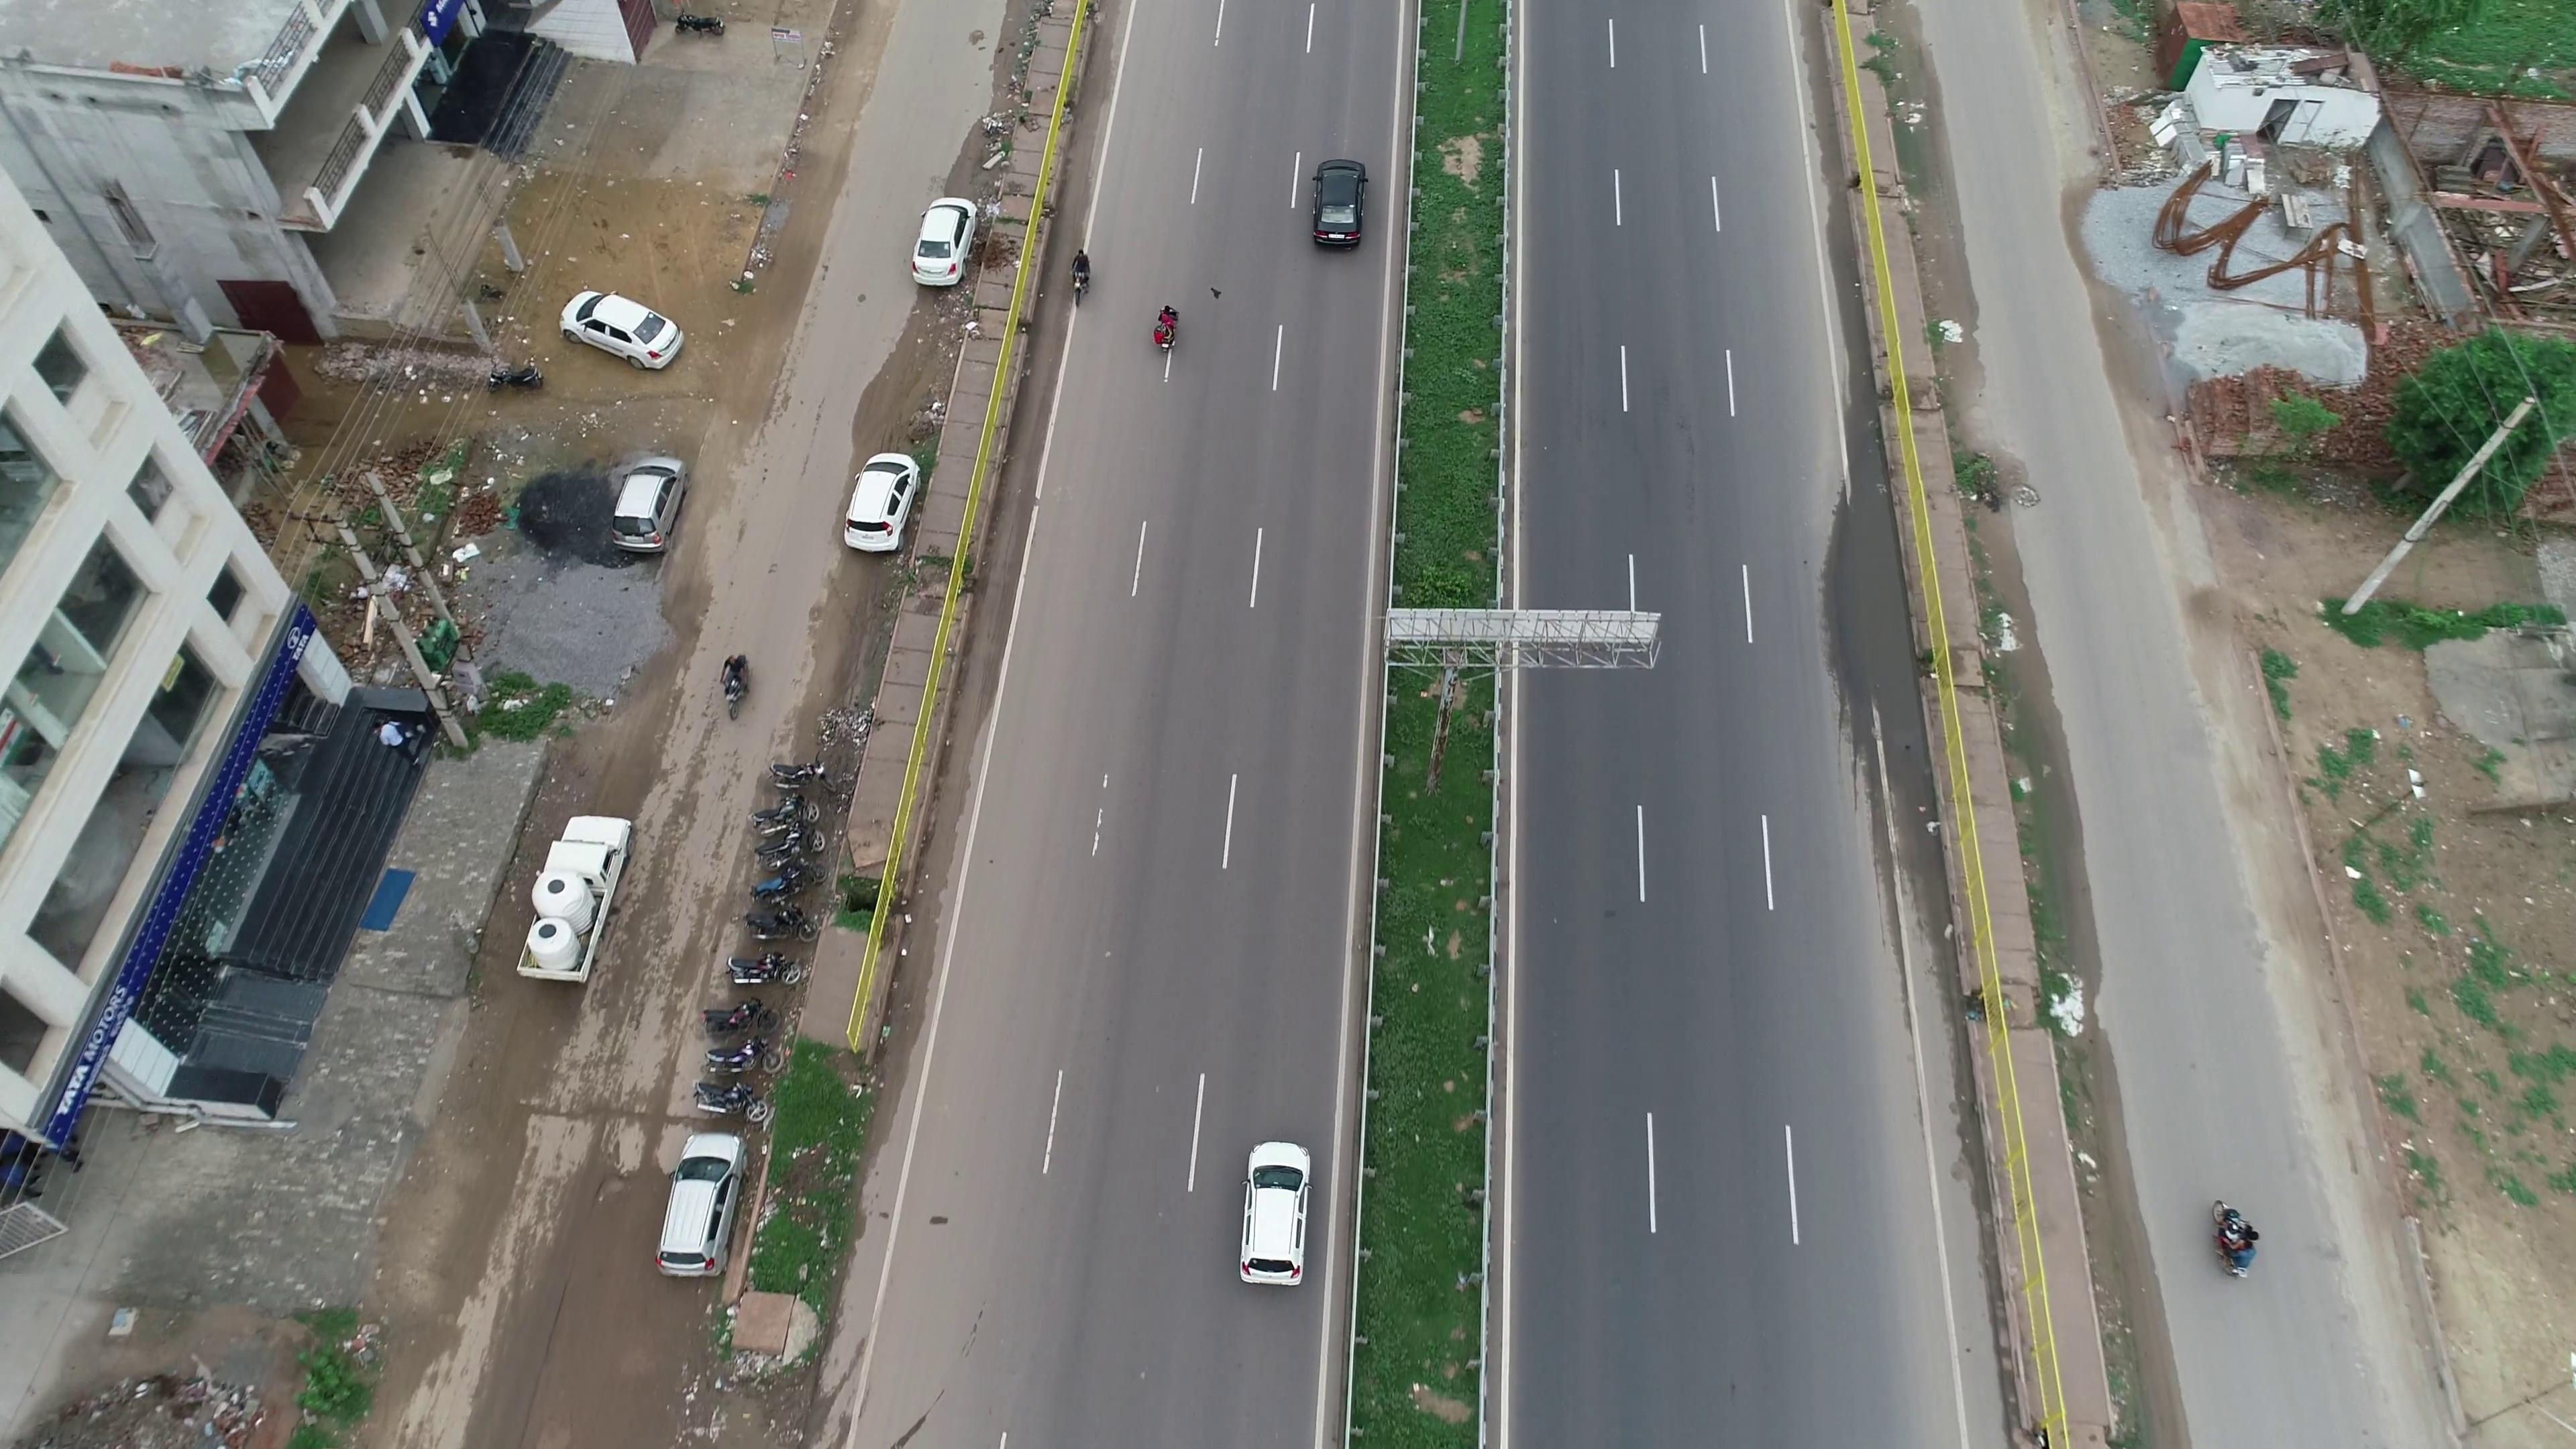Waterlogging: (1803, 414, 1914, 771)
